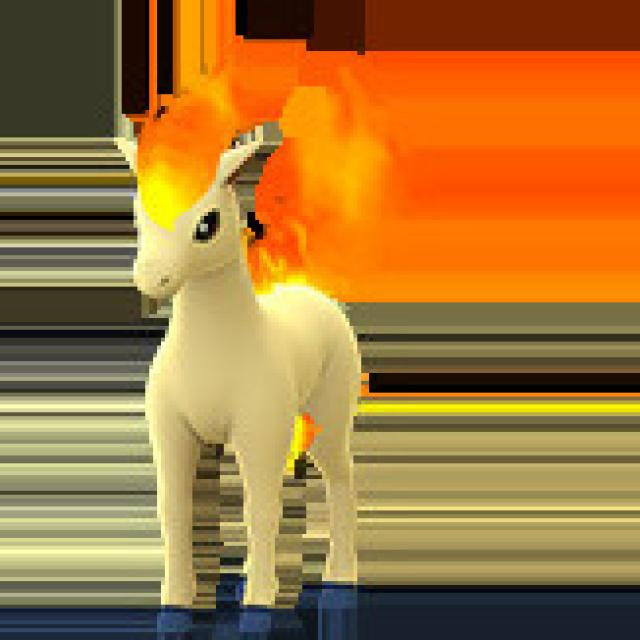Ponyta: (100, 88, 369, 632)
